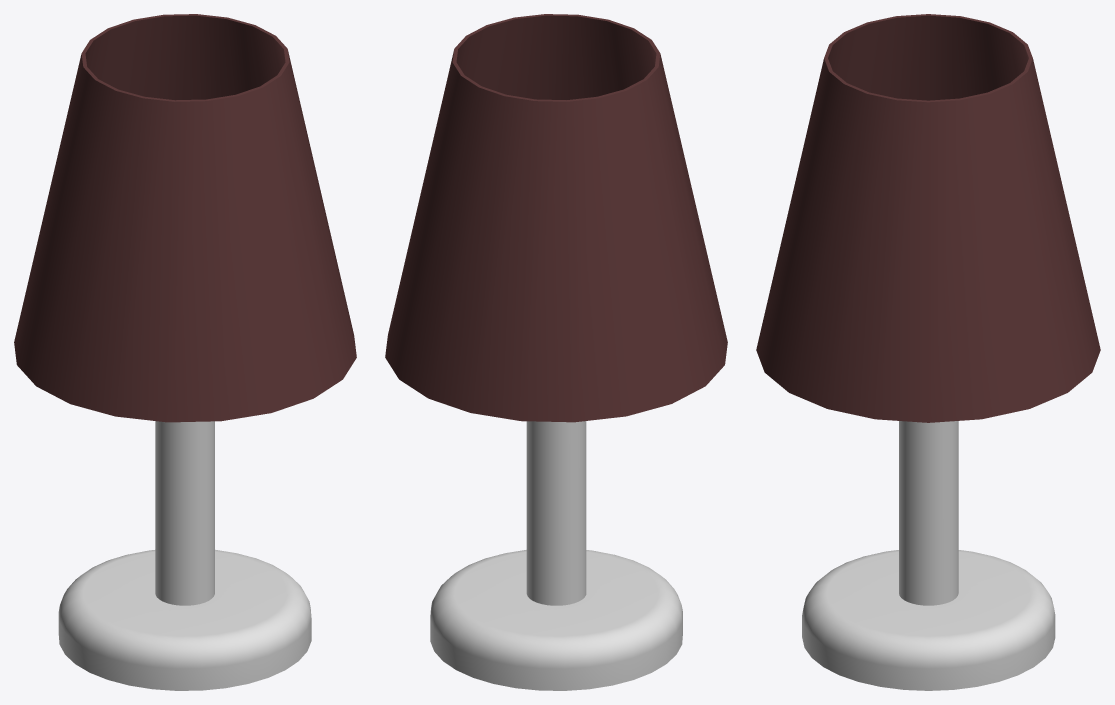
The model's file is LampeChevet3_1.fbx.
The picture shows the model from 3 angles, left to right: view 1: azimuth 30°, elevation 25°; view 2: azimuth 150°, elevation 25°; view 3: azimuth 270°, elevation 25°; orthographic projection.
Visible parts, largest first — view 1: pPipe110, pCylinder764; view 2: pPipe110, pCylinder764; view 3: pPipe110, pCylinder764.
Boxes of the visible parts, x1,y1,x2,y2 form: pPipe110: (14, 14, 356, 422); pCylinder764: (58, 421, 311, 690); pPipe110: (385, 14, 727, 422); pCylinder764: (430, 421, 682, 690); pPipe110: (756, 14, 1100, 422); pCylinder764: (802, 421, 1055, 690).
Size of the model in its own units: 13.33 by 24.73 by 13.33.
